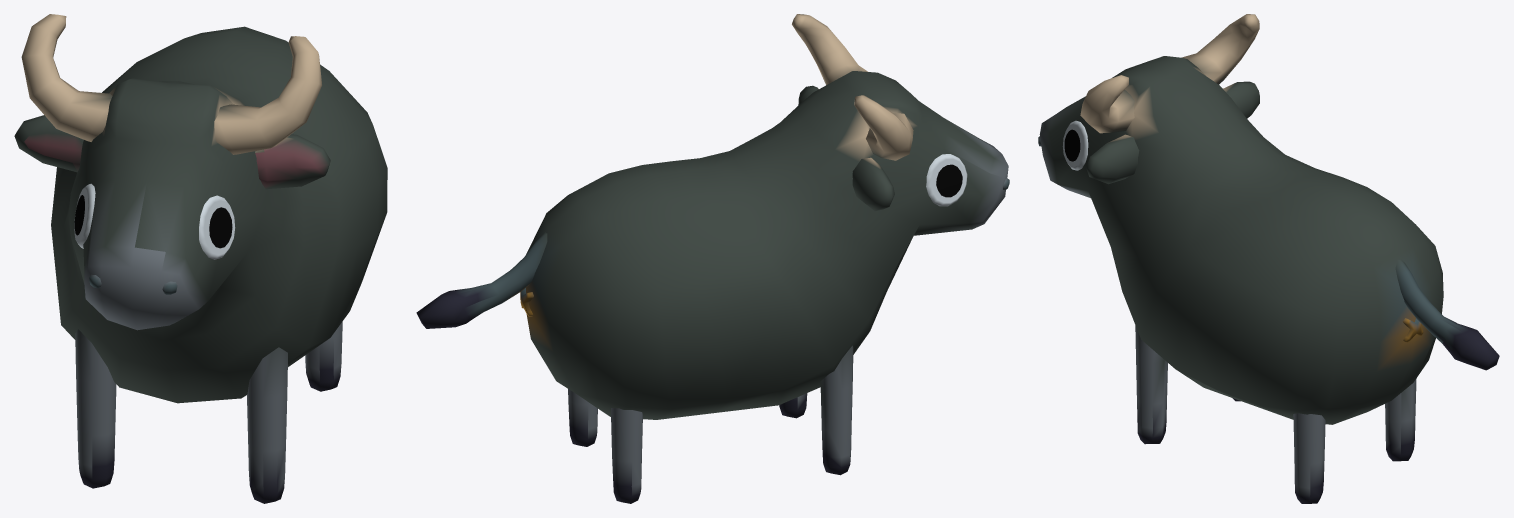
File: Buffalo.glb
3 renders of one model, left to right at view 1: azimuth 30°, elevation 25°; view 2: azimuth 150°, elevation 25°; view 3: azimuth 270°, elevation 25°, orthographic. The views are drawn at different scales.
Visible parts, largest first — view 1: 16; view 2: 16; view 3: 16.
Boxes of the visible parts, <box> form: 16: <box>14,14,387,503</box>; 16: <box>416,14,1009,503</box>; 16: <box>1038,14,1499,503</box>.
Bounding box in the file's own units: 1.09 × 1.06 × 1.19.
